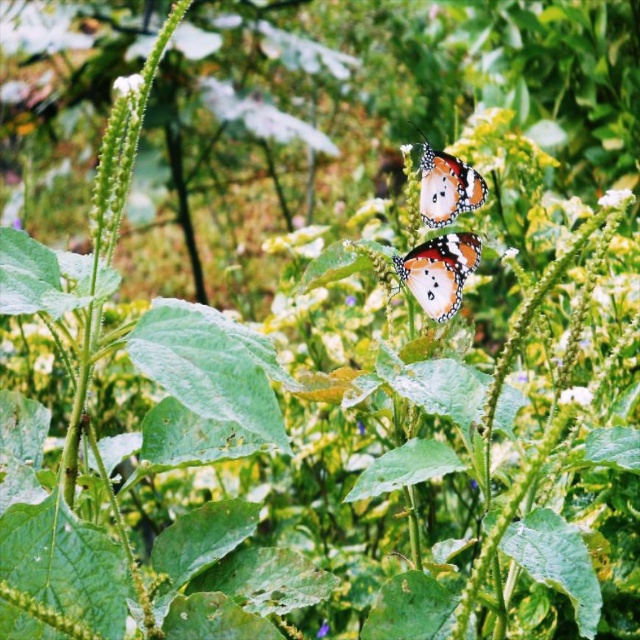Butterfly: (407, 118, 488, 228), (395, 225, 480, 316)
